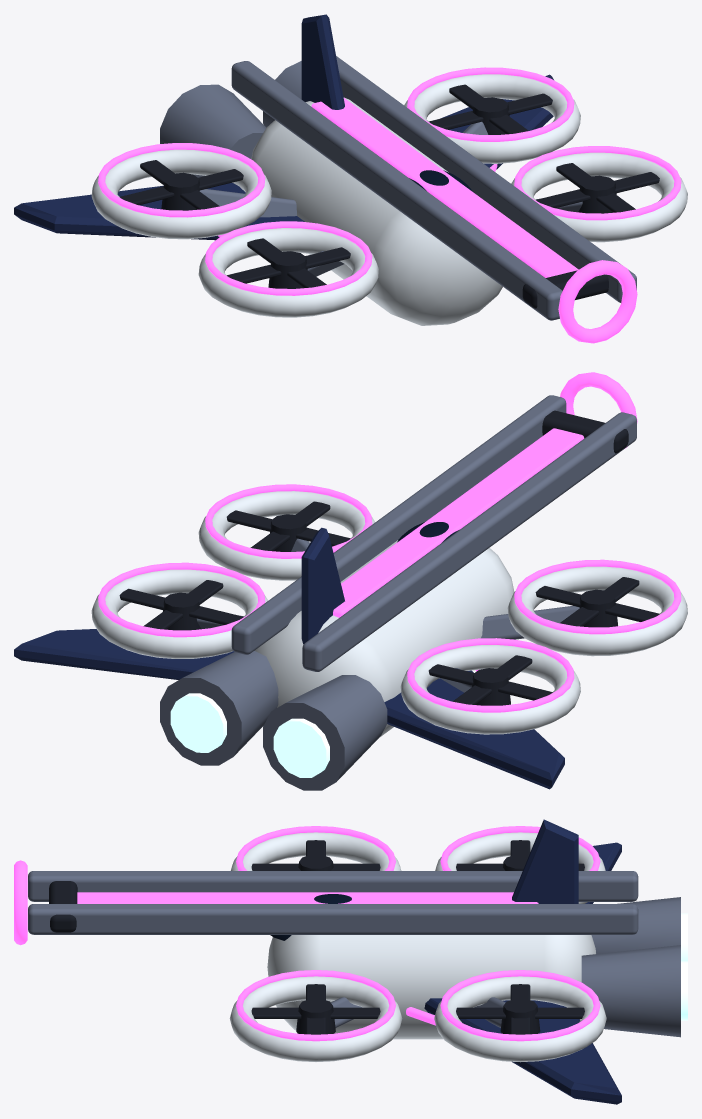
Rendered from rail.glb.
3 renders of one model, top to bottom at view 1: azimuth 30°, elevation 25°; view 2: azimuth 150°, elevation 25°; view 3: azimuth 270°, elevation 25°, orthographic. The views are drawn at different scales.
Parts seen in each view (by area): view 1: root:hull, root:alloy, root:glow, root:plate, rotorBR:dark, rotorFR:dark, rotorFL:dark, rotorBL:dark, root:dark; view 2: root:hull, root:alloy, root:glow, root:plate, root:hot, rotorFR:dark, rotorBR:dark, rotorBL:dark, rotorFL:dark, root:dark; view 3: root:alloy, root:hull, root:glow, root:plate, rotorBL:dark, rotorFL:dark, rotorFR:dark, root:dark, rotorBR:dark, root:hot.
Boxes of the visible parts, x1=… form: root:hull: x1=91, y1=74, x2=687, y2=325; root:alloy: x1=160, y1=56, x2=636, y2=320; root:glow: x1=98, y1=67, x2=681, y2=343; root:plate: x1=14, y1=14, x2=553, y2=240; rotorBR:dark: x1=120, y1=160, x2=243, y2=210; rotorFR:dark: x1=227, y1=238, x2=350, y2=288; rotorFL:dark: x1=536, y1=163, x2=659, y2=213; rotorBL:dark: x1=429, y1=84, x2=552, y2=134; root:dark: x1=522, y1=270, x2=608, y2=308; root:hull: x1=91, y1=491, x2=687, y2=737; root:alloy: x1=160, y1=395, x2=636, y2=790; root:glow: x1=98, y1=372, x2=681, y2=712; root:plate: x1=14, y1=527, x2=564, y2=789; root:hot: x1=170, y1=693, x2=329, y2=777; rotorFR:dark: x1=535, y1=577, x2=659, y2=627; rotorBR:dark: x1=428, y1=655, x2=552, y2=705; rotorBL:dark: x1=119, y1=580, x2=243, y2=630; rotorFL:dark: x1=226, y1=501, x2=350, y2=551; root:dark: x1=542, y1=410, x2=628, y2=453; root:alloy: x1=28, y1=871, x2=680, y2=1037; root:hull: x1=229, y1=832, x2=606, y2=1062; root:glow: x1=14, y1=826, x2=600, y2=1041; root:plate: x1=424, y1=819, x2=621, y2=1104; rotorBL:dark: x1=456, y1=984, x2=584, y2=1034; rotorFL:dark: x1=251, y1=984, x2=380, y2=1034; rotorFR:dark: x1=251, y1=840, x2=380, y2=870; root:dark: x1=49, y1=881, x2=77, y2=932; rotorBR:dark: x1=456, y1=840, x2=584, y2=870; root:hot: x1=681, y1=913, x2=687, y2=1020.
Bounding box in the file's own units: 0.8356 × 0.3279 × 0.9495.
